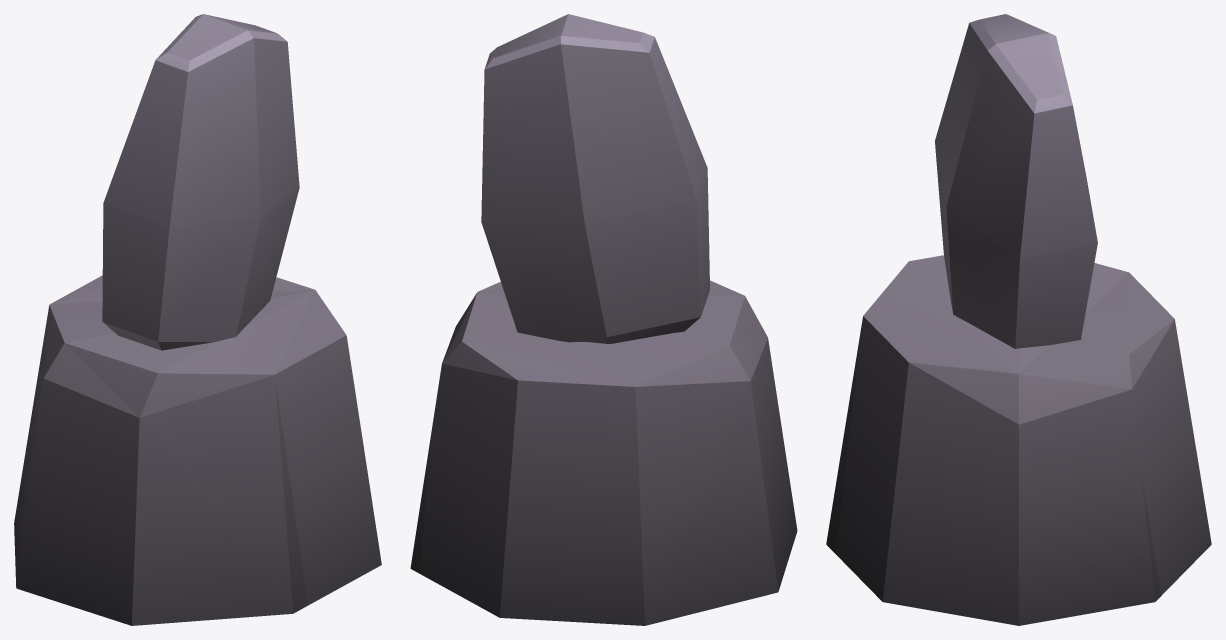
The model's file is grave_2.glb.
3 renders of one model, left to right at view 1: azimuth 30°, elevation 25°; view 2: azimuth 150°, elevation 25°; view 3: azimuth 270°, elevation 25°, orthographic.
Visible parts, largest first — view 1: grave_2; view 2: grave_2; view 3: grave_2.
Part boxes in pixels (box(x1,y1,x2,y2)): grave_2: box(14, 14, 381, 625); grave_2: box(410, 14, 797, 625); grave_2: box(826, 14, 1211, 625).
Bounding box in the file's own units: 0.9511 × 1.35 × 0.9047.
1 material, 1 textured.
